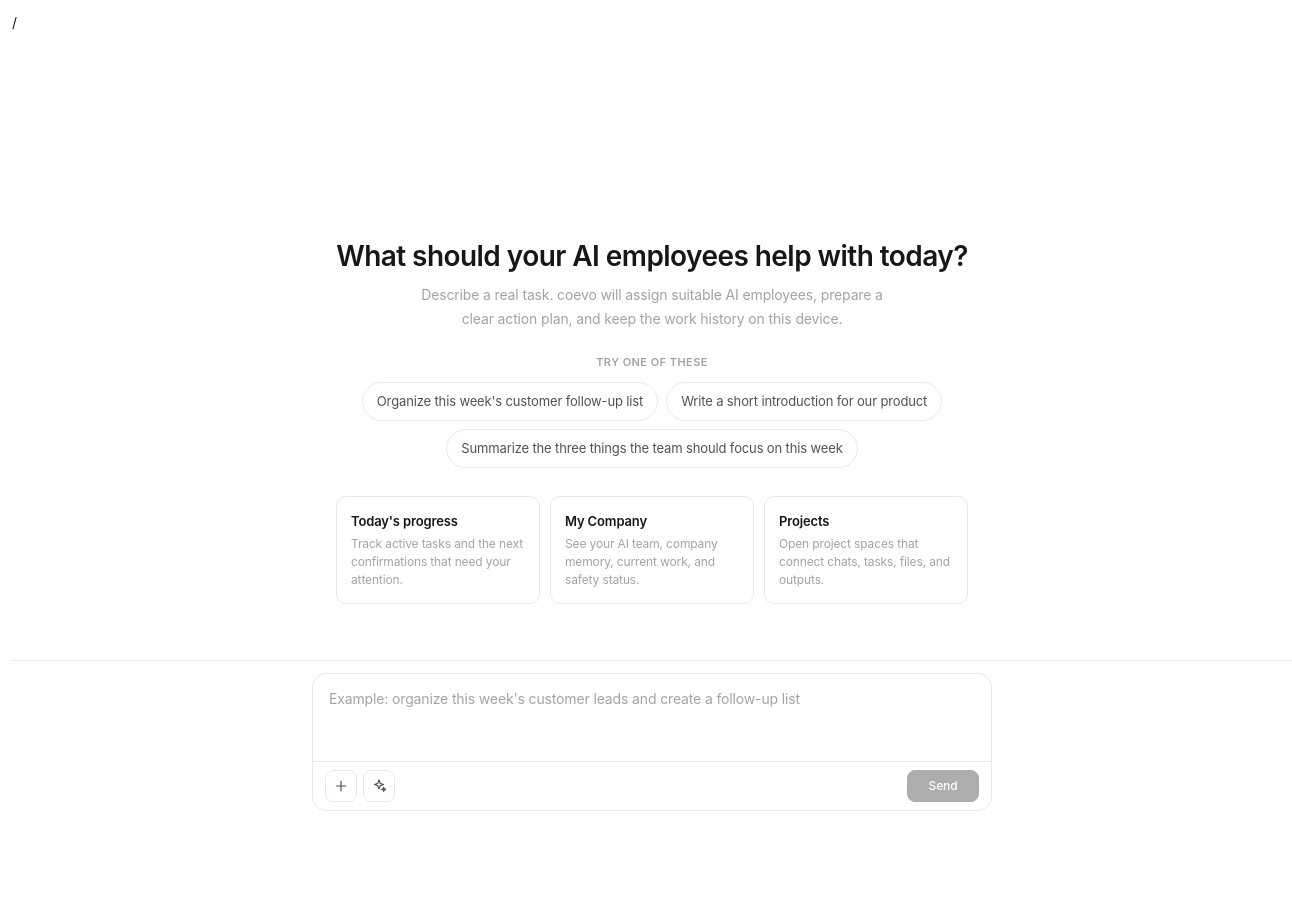
MissionChat slash commands › rejects unknown slash commands without sending a normal message
Replace the text in the text box with "/nope" at (652, 714), box 313,674 -> 991,754
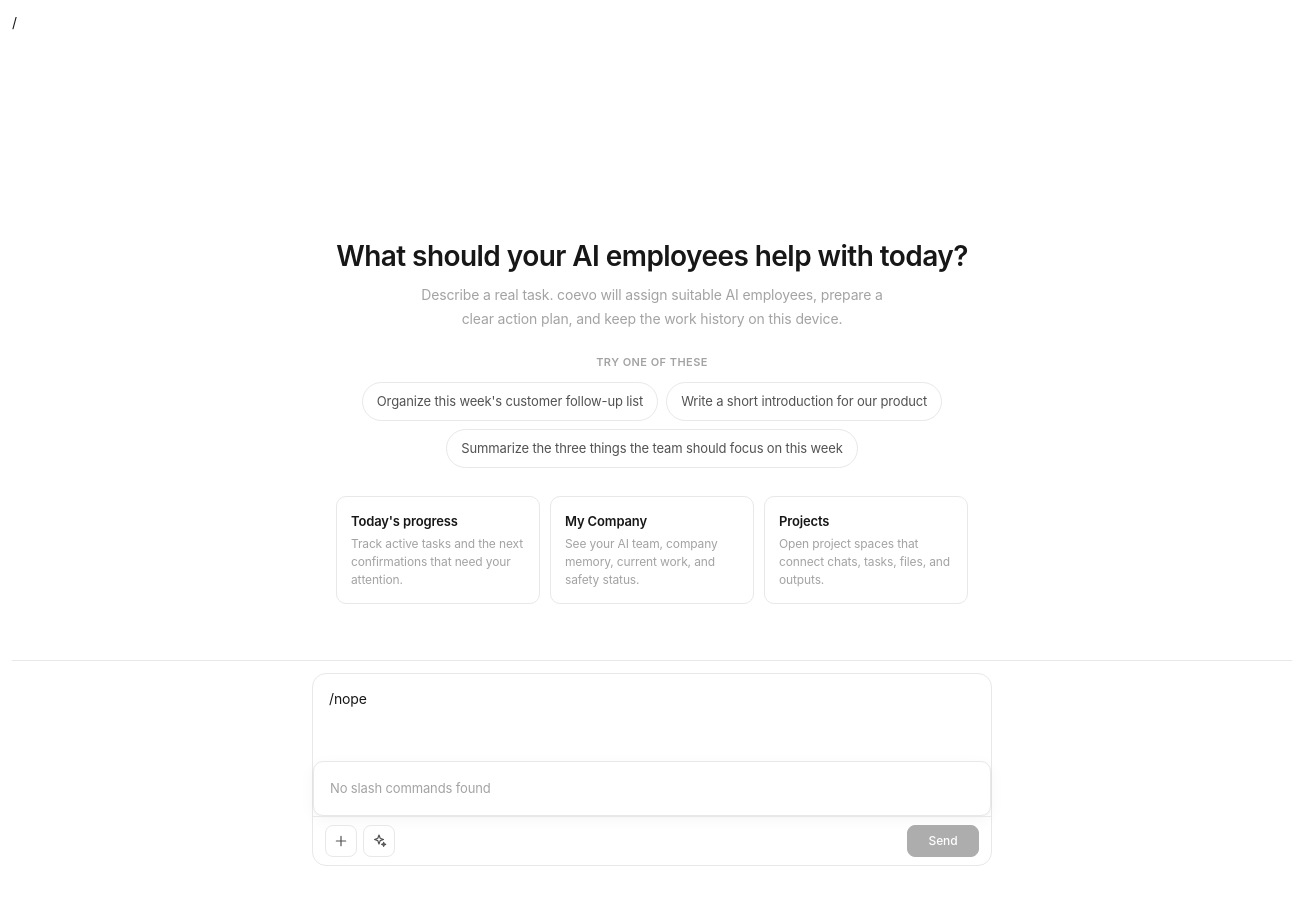
Press Enter in the text box, box 313,674 -> 991,754
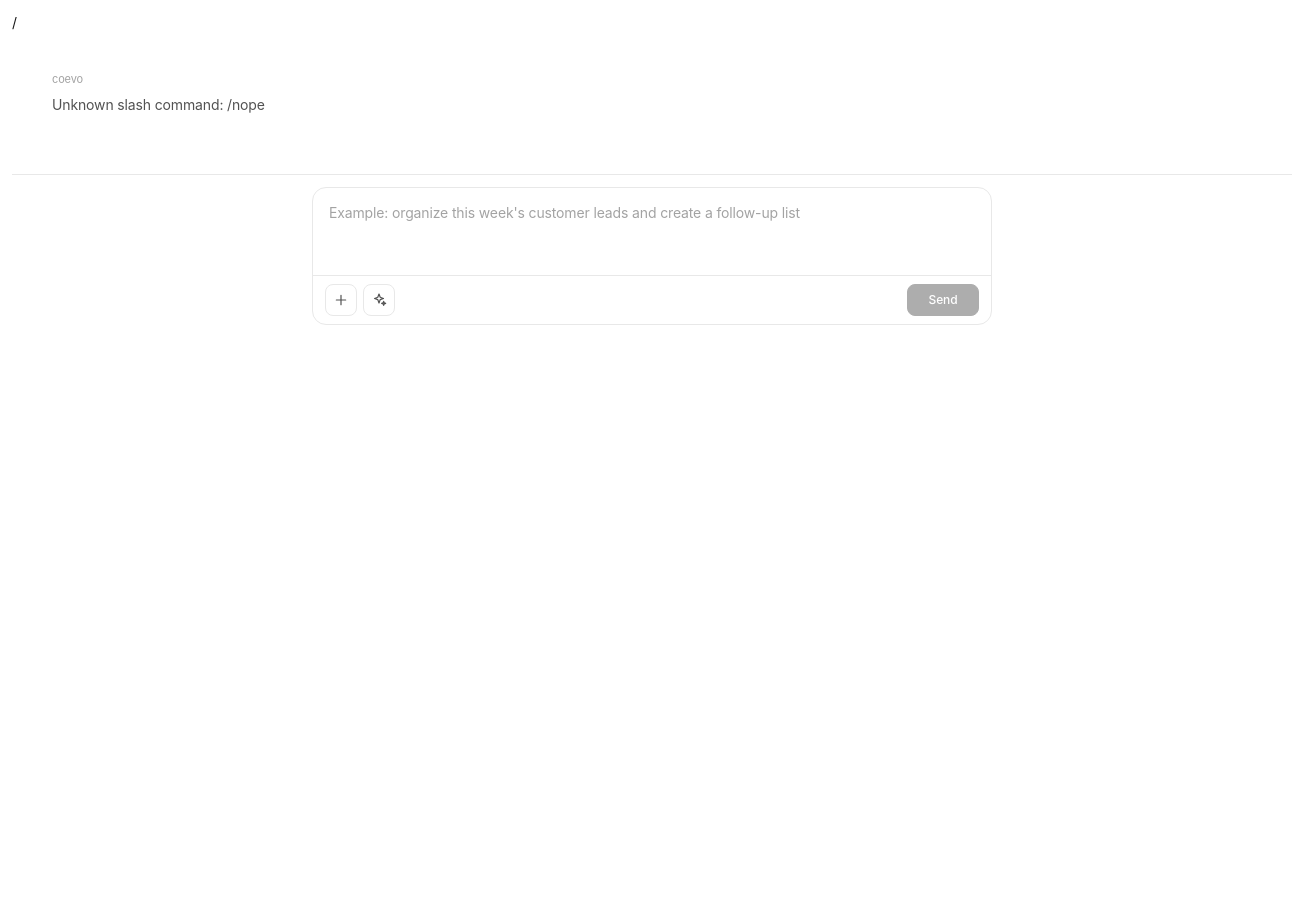
Check: the text "Unknown slash command: /nope" is shown, box 52,94 -> 265,116
Check: the text box is empty, box 313,188 -> 991,268
